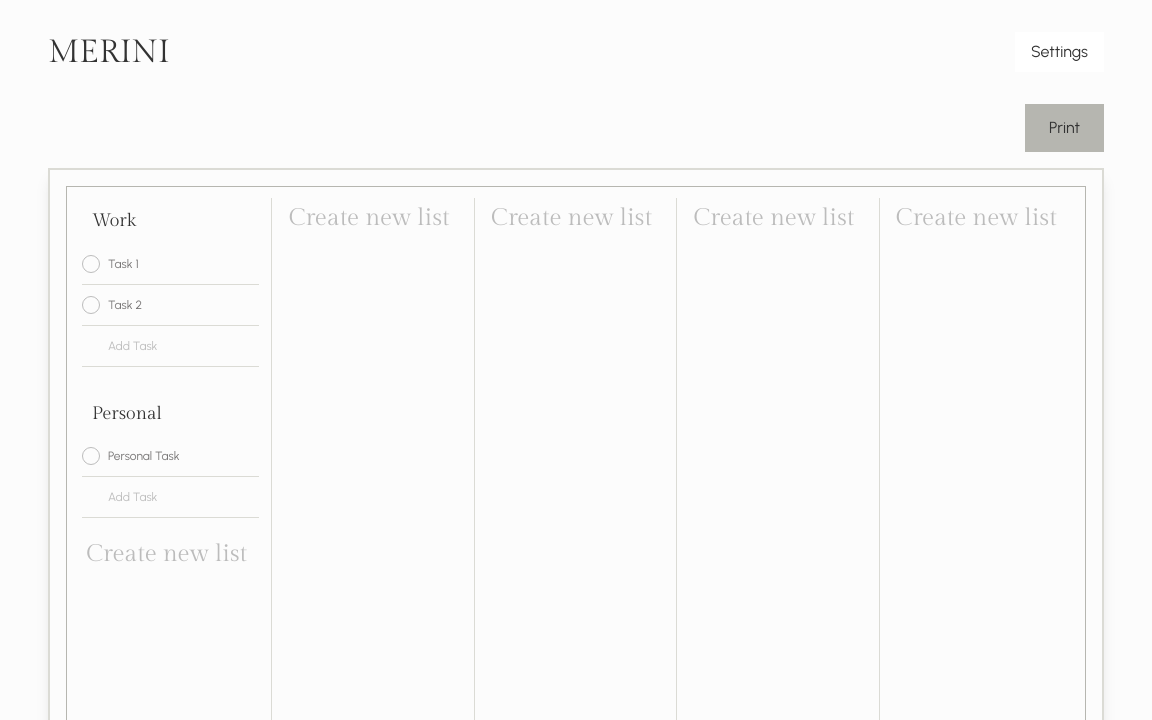
Test: App - List Archiving › shows confirmation prompt when Archive button is clicked
Click the button "Work" at (114, 220), box [92,210,136,231]
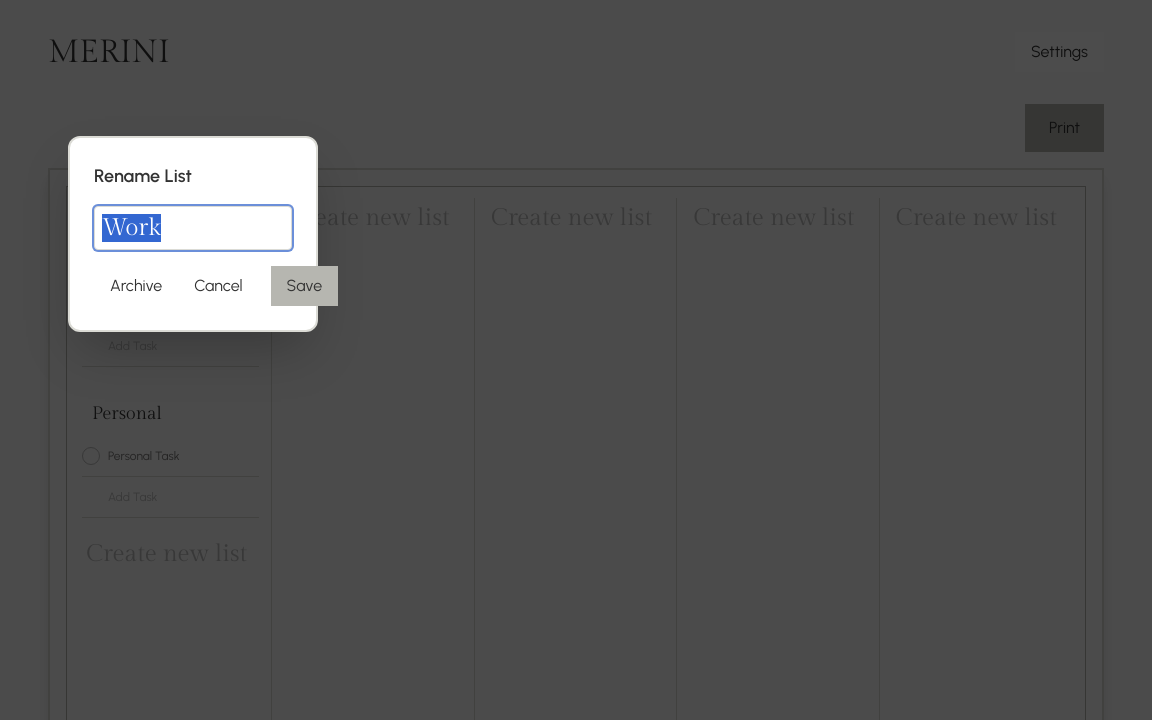
Now the dialog is shown
Click the button with aria-label "archive this list" at (136, 286), box [94,266,178,306]
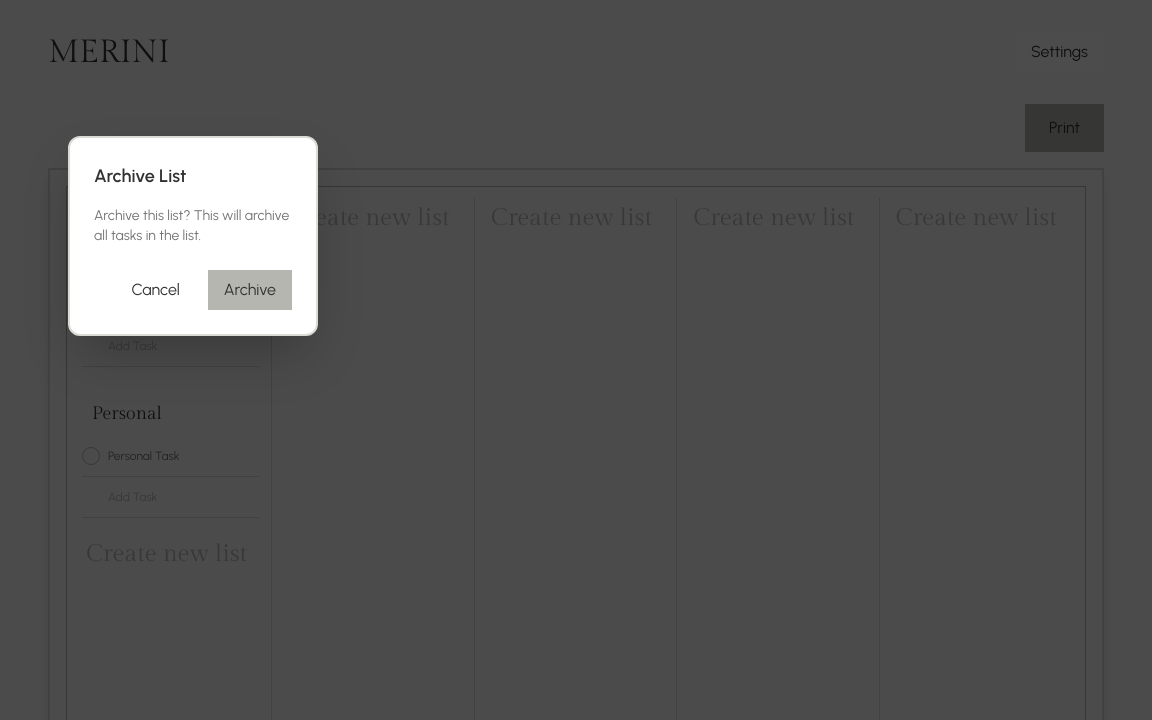
Now the heading "Archive List" is shown, box [94,165,186,187]
Now the text "Archive this list? This will archive all tasks in the list." is shown, box [94,206,292,246]
Now the button with aria-label "cancel archiving" is shown, box [116,270,196,310]
